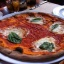basil: (5, 31, 25, 44), (39, 41, 56, 54), (28, 17, 45, 23), (50, 22, 60, 32)
pizza: (1, 13, 64, 58)
